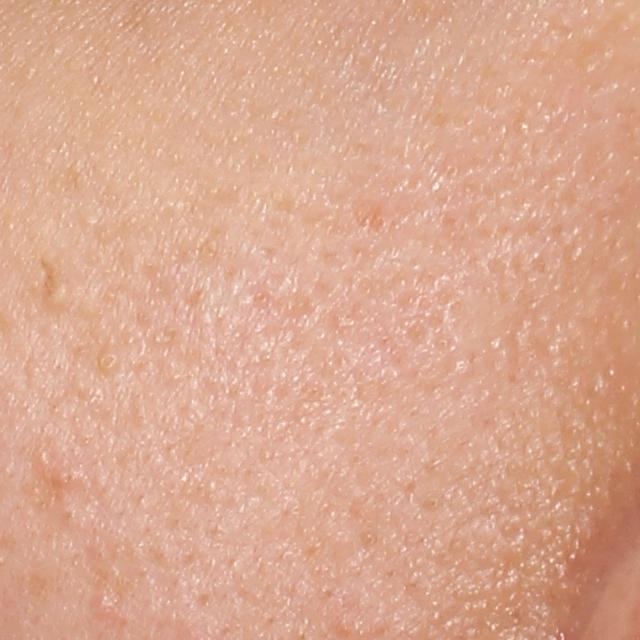comedo: (39, 274, 84, 314), (55, 466, 86, 488), (92, 590, 113, 619), (96, 351, 123, 372), (34, 450, 53, 471)
